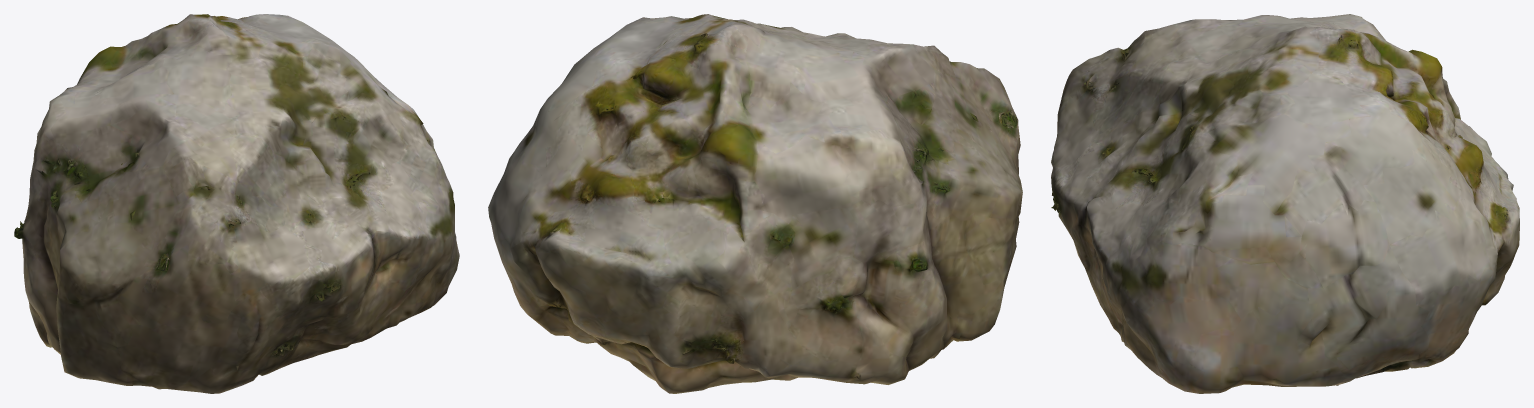
Rendered from pedra-medieval.glb.
3 views of the same model, side by side, from view 1: azimuth 30°, elevation 25°; view 2: azimuth 150°, elevation 25°; view 3: azimuth 270°, elevation 25° (orthographic). The views are drawn at different scales.
Bounding box in the file's own units: 2 × 1.44 × 1.99.
Materials: 1 (1 with a texture image).
